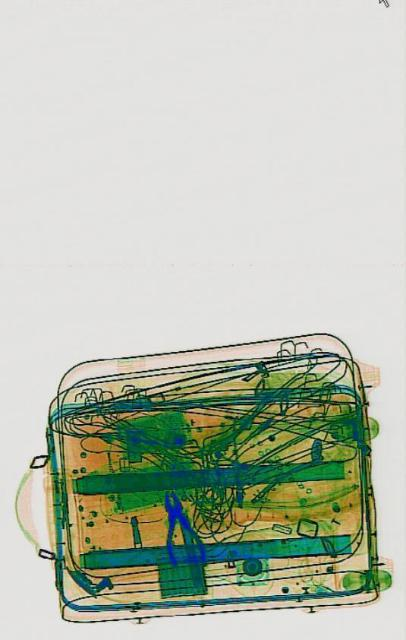Pliers: (152, 482, 204, 576)
